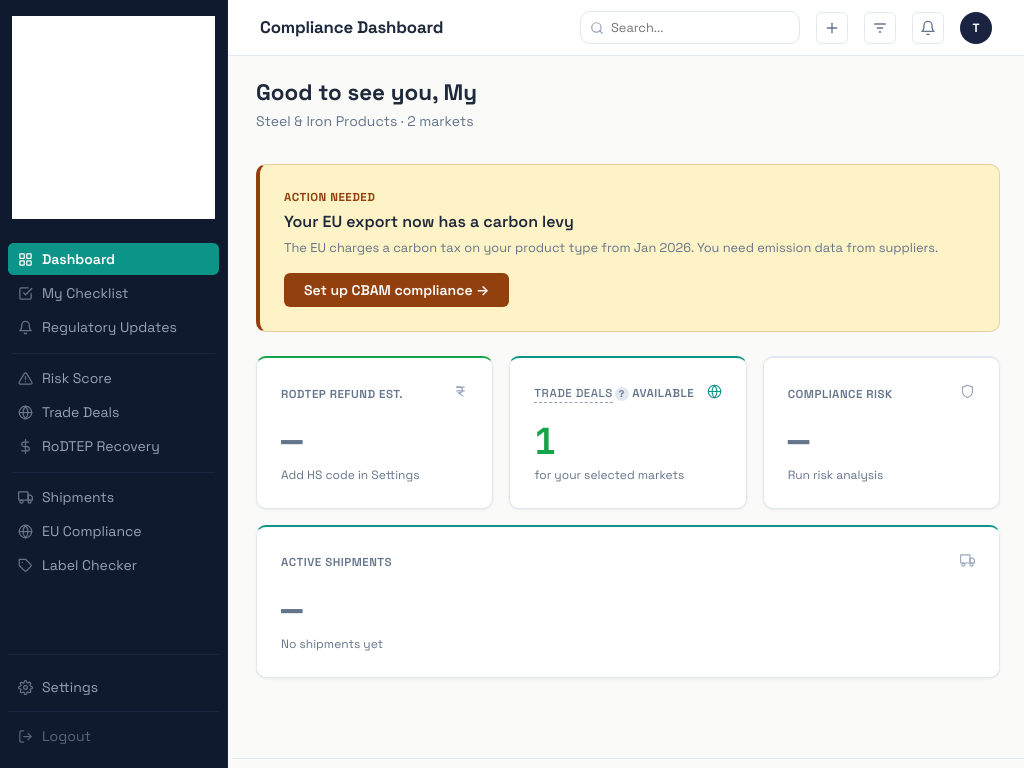
Test: App Component › Navigation › navigates to alerts view
Expected: the navigation bar is shown, [0,0,228,767]
What coordinates should you click on to do the following:
click the button "Regulatory Updates"
I would click on:
 (114, 327)
Its box is [8,311,219,343].
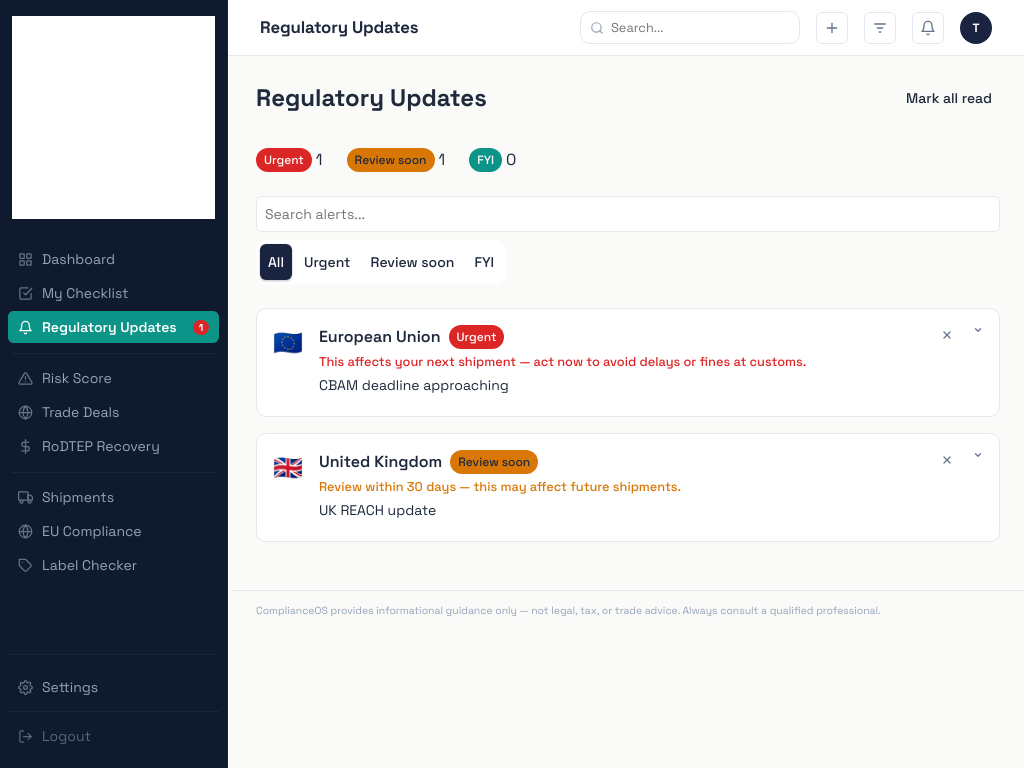
Expected: the 1st heading "Regulatory Updates" is shown, [260,17,418,38]
